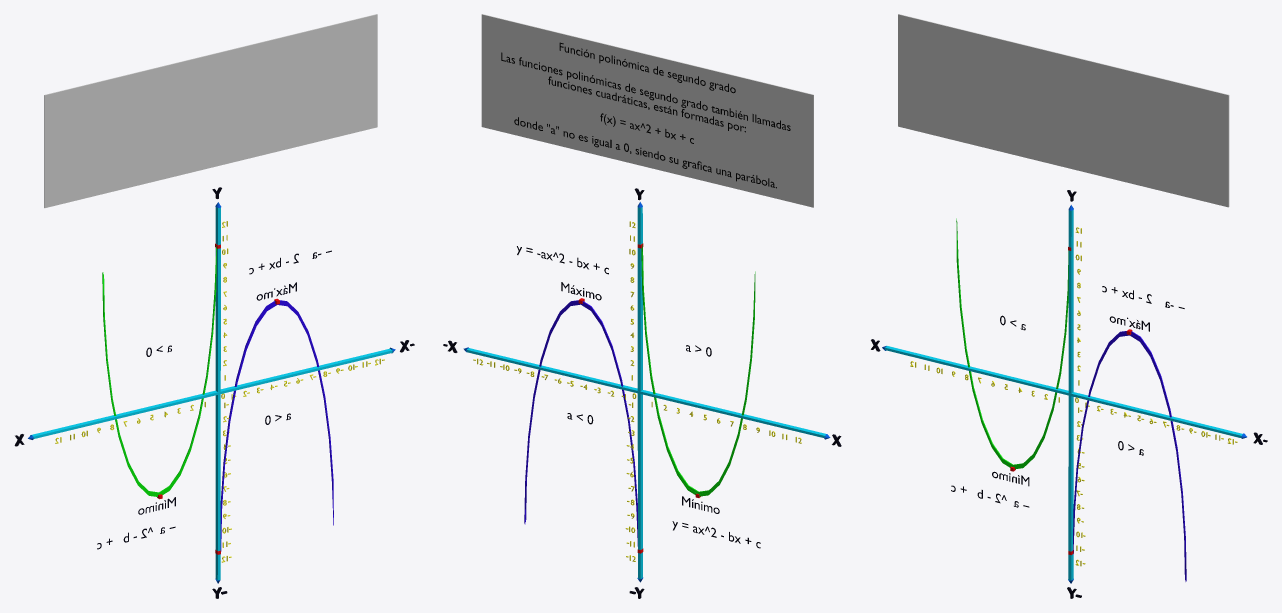
File: f-polinomica-segundo-grado.fbx
3 renders of one model, left to right at view 1: azimuth 30°, elevation 25°; view 2: azimuth 150°, elevation 25°; view 3: azimuth 330°, elevation 25°, orthographic.
Parts seen in each view (by area): view 1: Cubo.003, Cubo.001, Cubo, Surface.001, Surface.002; view 2: Cubo.003, Text.087, Cubo.001, Cubo, Surface.002, Surface.001; view 3: Cubo.003, Cubo.001, Cubo, Surface.001, Surface.002.
Part boxes in pixels (x1,y1,x2,y2): Cubo.003: (44,14,377,207); Cubo.001: (215,207,220,580); Cubo: (30,348,392,438); Surface.001: (220,300,333,551); Surface.002: (102,246,216,496); Cubo.003: (481,14,813,207); Text.087: (501,42,790,188); Cubo.001: (637,207,642,579); Cubo: (466,348,825,437); Surface.002: (641,244,755,496); Surface.001: (524,300,637,546); Cubo.003: (898,14,1229,207); Cubo.001: (1068,210,1073,580); Cubo: (884,345,1242,438); Surface.001: (1073,331,1186,581); Surface.002: (956,218,1068,469).
Bounding box in the file's own units: 599 × 785 × 8.65.
